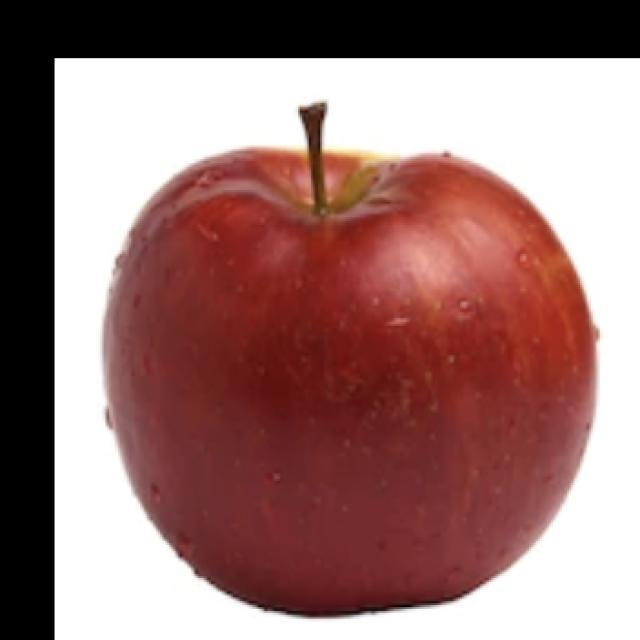Apple: (101, 99, 600, 617)
